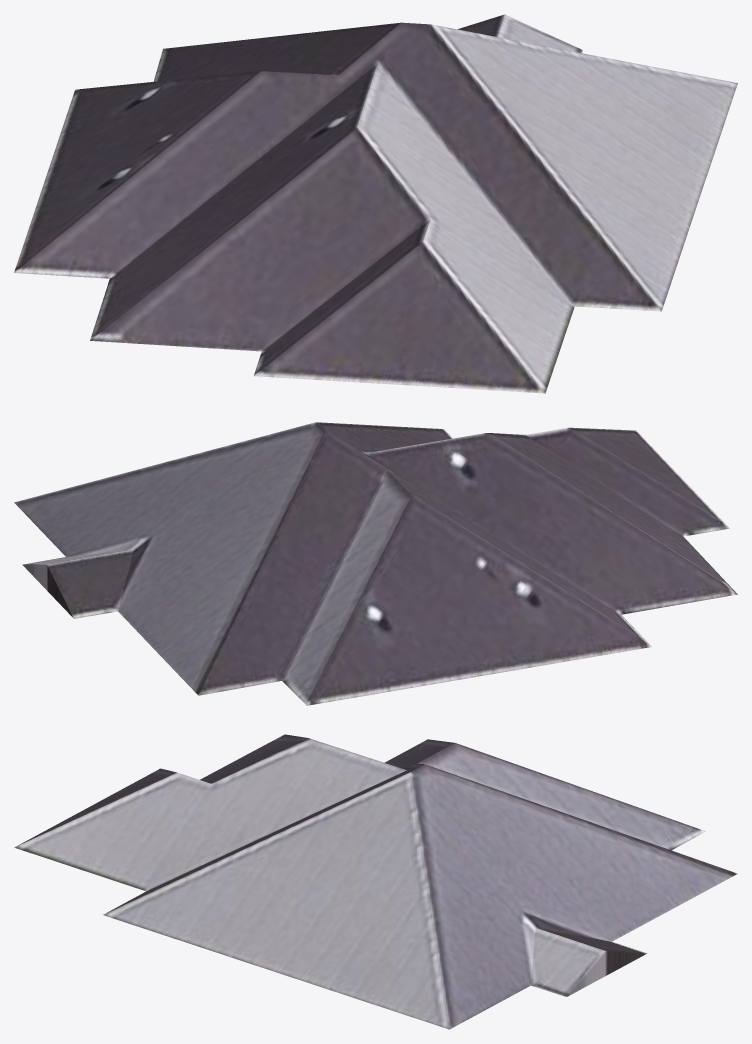
The model's file is BK39_500_014031_0008_roof.obj.
3 views of the same model, one above another, from view 1: azimuth 30°, elevation 25°; view 2: azimuth 150°, elevation 25°; view 3: azimuth 270°, elevation 25° (orthographic). The views are drawn at different scales.
Visible parts, largest first — view 1: BK39_500_014031_0008_roof; view 2: BK39_500_014031_0008_roof; view 3: BK39_500_014031_0008_roof.
Boxes of the visible parts, x1,y1,x2,y2 form: BK39_500_014031_0008_roof: (14, 14, 737, 393); BK39_500_014031_0008_roof: (14, 422, 737, 705); BK39_500_014031_0008_roof: (14, 734, 737, 1029).
Size of the model in its own units: 349 by 70 by 362.
Materials: 1 (1 with a texture image).
